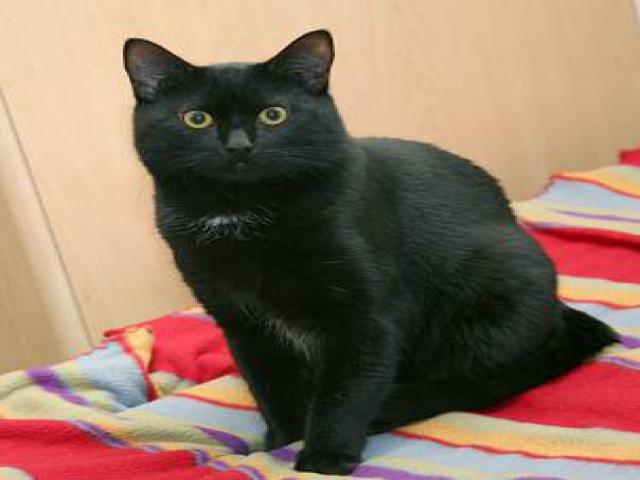cat: (113, 26, 607, 478)
